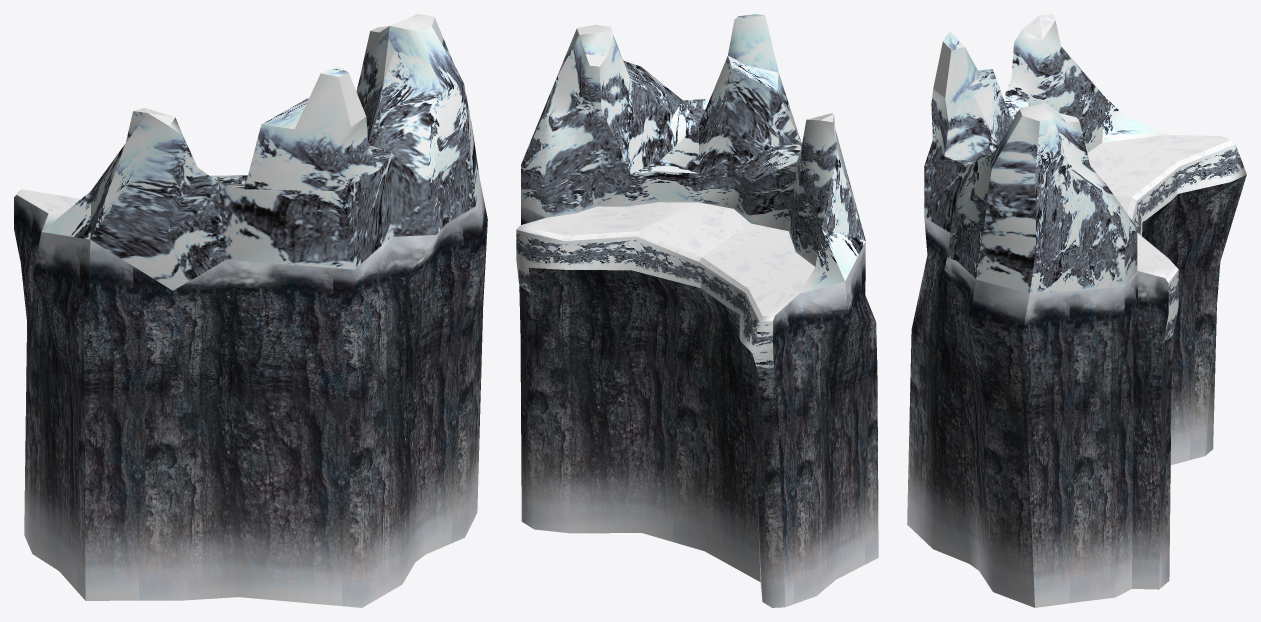
File: san003.obj
The picture shows the model from 3 angles, left to right: view 1: azimuth 30°, elevation 25°; view 2: azimuth 150°, elevation 25°; view 3: azimuth 270°, elevation 25°; orthographic projection. The views are drawn at different scales.
Parts seen in each view (by area): view 1: san003; view 2: san003; view 3: san003.
Boxes of the visible parts, left/top/right/bottom form: san003: left=14, top=14, right=487, bottom=607; san003: left=516, top=14, right=878, bottom=607; san003: left=907, top=14, right=1246, bottom=607.
Size of the model in its own units: 863 by 1085 by 687.
